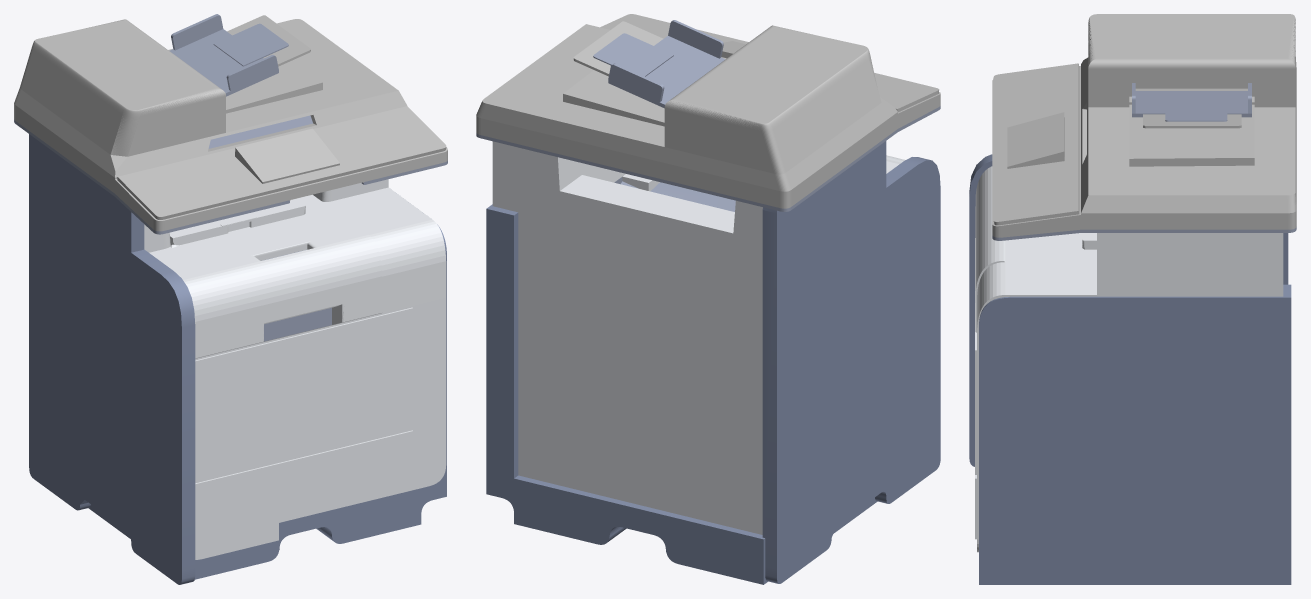
The model's file is Printer.fbx.
3 views of the same model, side by side, from view 1: azimuth 30°, elevation 25°; view 2: azimuth 150°, elevation 25°; view 3: azimuth 270°, elevation 25° (orthographic). The views are drawn at different scales.
Visible parts, largest first — view 1: Printer; view 2: Printer; view 3: Printer.
Boxes of the visible parts, x1,y1,x2,y2 form: Printer: (14, 14, 447, 584); Printer: (476, 14, 940, 584); Printer: (969, 14, 1296, 584).
Size of the model in its own units: 19.69 by 18.25 by 27.81.
